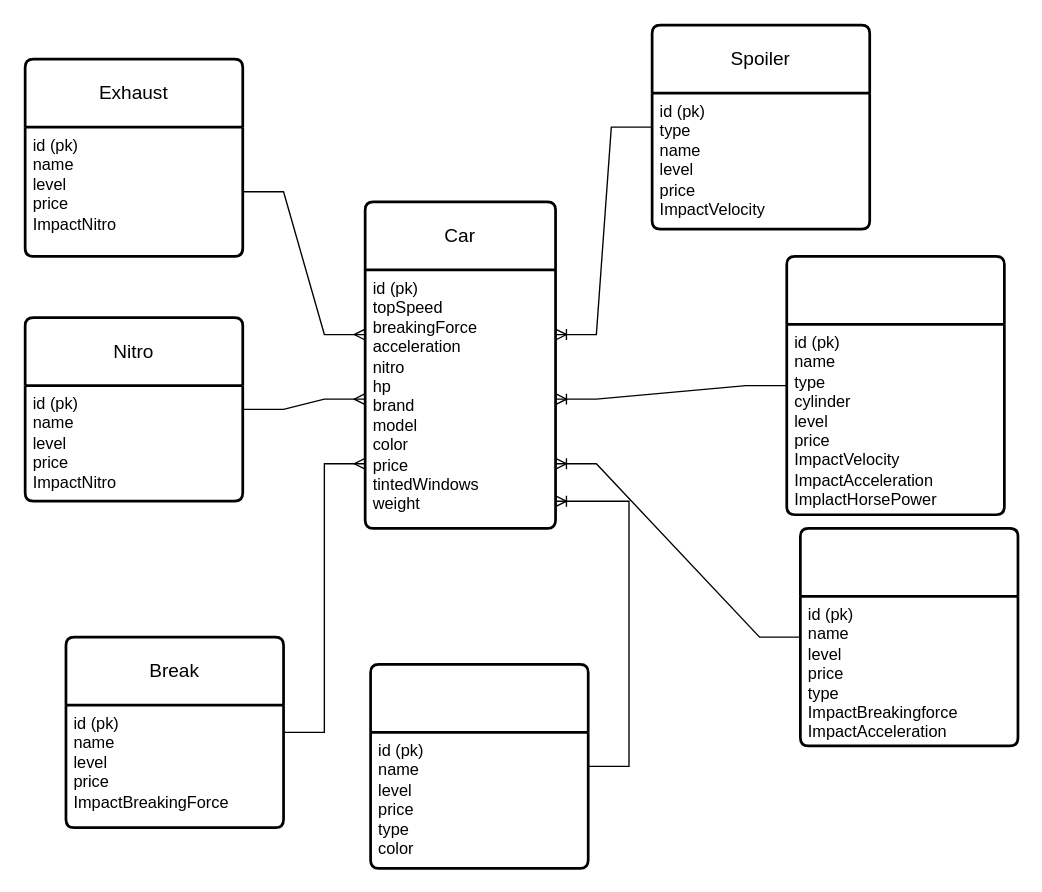
This 1042x892 diagram has some shape labels left out. The shapes that lost their labels are listed below. From the top down, each one's box as (x1, y1, x2, y2) in pixels, then its label:
(785, 254, 1005, 515): Engine
(798, 526, 1019, 747): Tyres
(369, 662, 589, 869): Rims
